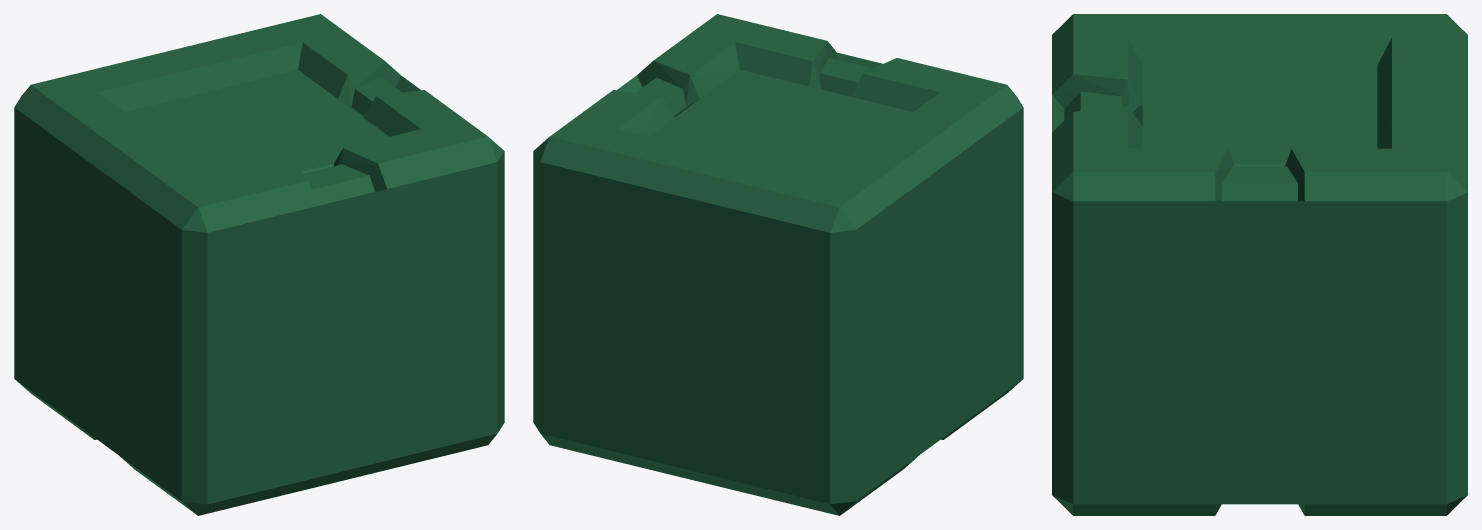
The picture shows the model from 3 angles, left to right: view 1: azimuth 30°, elevation 25°; view 2: azimuth 150°, elevation 25°; view 3: azimuth 270°, elevation 25°; orthographic projection. The views are drawn at different scales.
Visible parts, largest first — view 1: 002_Cube_002; view 2: 002_Cube_002; view 3: 002_Cube_002.
Part boxes in pixels (bbox=[...]): 002_Cube_002: bbox=[14, 14, 504, 515]; 002_Cube_002: bbox=[533, 14, 1023, 515]; 002_Cube_002: bbox=[1052, 14, 1467, 515].
Bounding box in the file's own units: 29.14 × 26.61 × 29.14.
